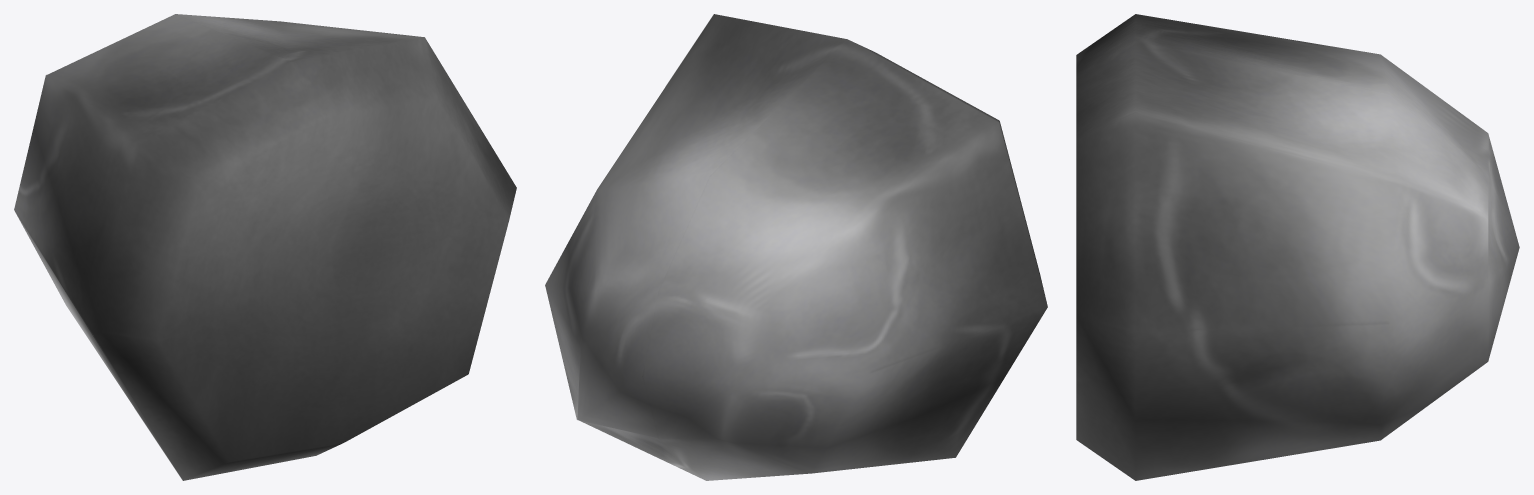
The model's file is Rock_c.fbx.
3 views of the same model, side by side, from view 1: azimuth 30°, elevation 25°; view 2: azimuth 150°, elevation 25°; view 3: azimuth 270°, elevation 25° (orthographic).
Parts seen in each view (by area): view 1: Rock_c; view 2: Rock_c; view 3: Rock_c.
Part boxes in pixels (x1,y1,x2,y2): Rock_c: (14,14,516,480); Rock_c: (545,14,1047,480); Rock_c: (1076,14,1519,480).
Bounding box in the file's own units: 144 × 129 × 130.
